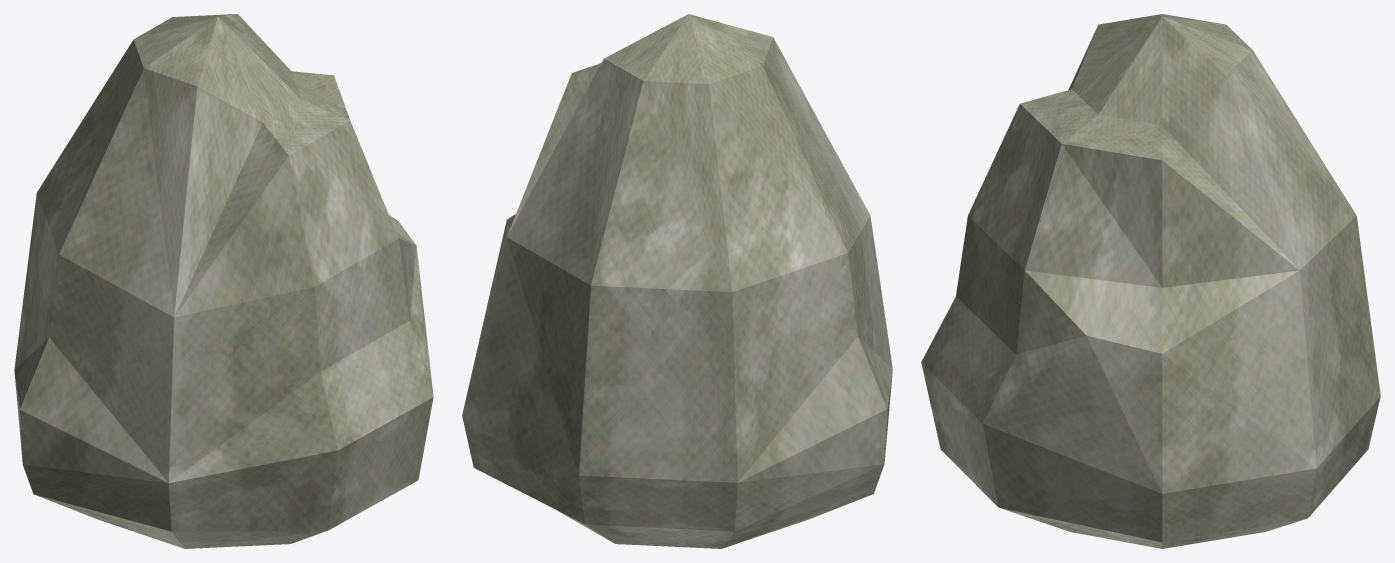
File: ForestBarricadeRockA.dae
3 renders of one model, left to right at view 1: azimuth 30°, elevation 25°; view 2: azimuth 150°, elevation 25°; view 3: azimuth 270°, elevation 25°, orthographic.
Parts seen in each view (by area): view 1: m0; view 2: m0; view 3: m0.
Part boxes in pixels (x1=…): m0: x1=14, y1=14, x2=433, y2=548; m0: x1=462, y1=14, x2=892, y2=548; m0: x1=921, y1=14, x2=1380, y2=548.
Size of the model in its own units: 559 by 646 by 558.
1 material, 1 textured.
